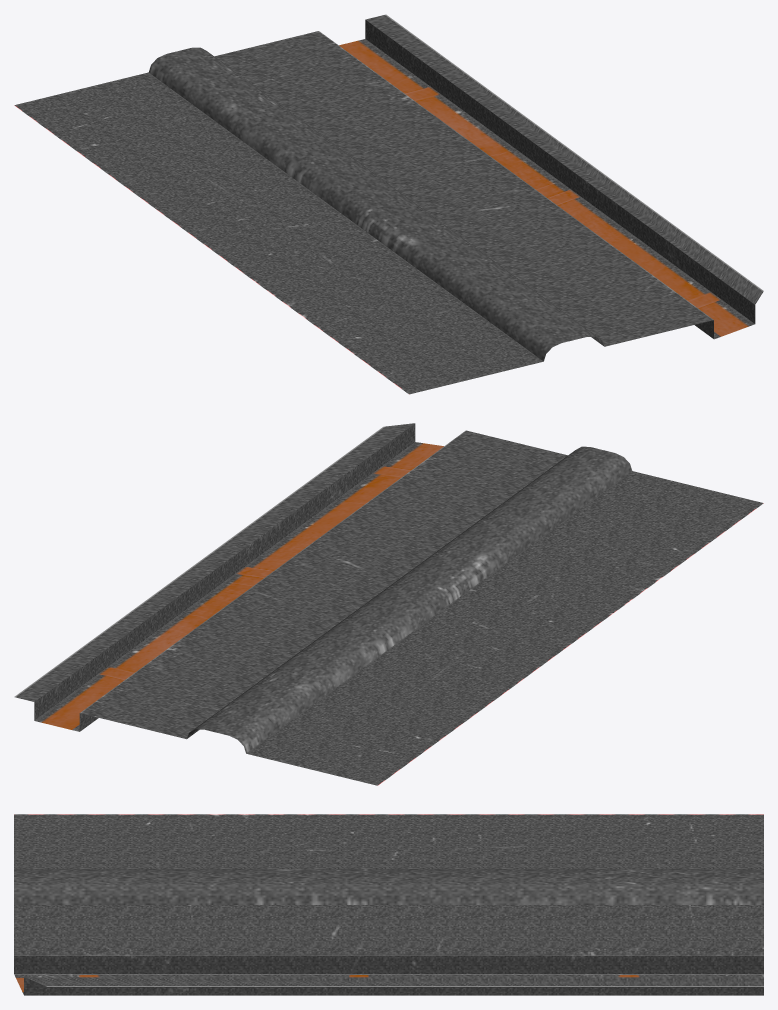
The model's file is RightCornerPanel.fbx.
3 views of the same model, one above another, from view 1: azimuth 30°, elevation 25°; view 2: azimuth 150°, elevation 25°; view 3: azimuth 270°, elevation 25° (orthographic). The views are drawn at different scales.
Parts seen in each view (by area): view 1: CornerPanelRight.001; view 2: CornerPanelRight.001; view 3: CornerPanelRight.001.
Boxes of the visible parts, x1=… form: CornerPanelRight.001: x1=14, y1=14, x2=763, y2=394; CornerPanelRight.001: x1=14, y1=423, x2=763, y2=785; CornerPanelRight.001: x1=14, y1=814, x2=763, y2=995.
Bounding box in the file's own units: 136 × 11.69 × 250.
